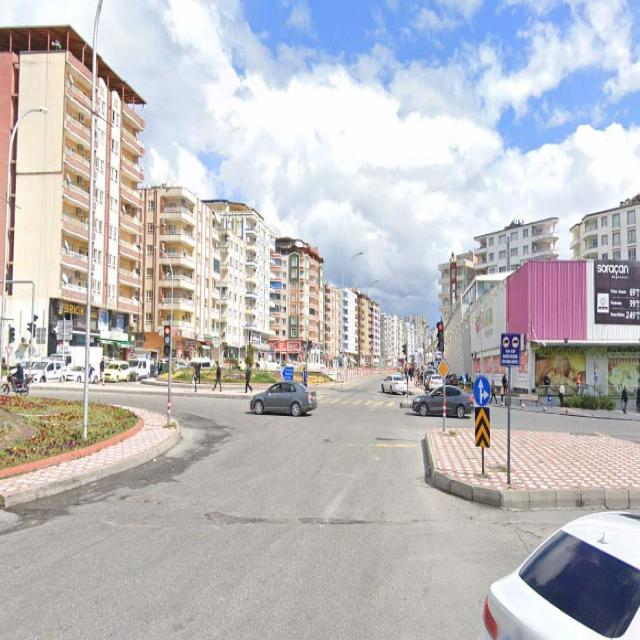ilerisag: (475, 375, 490, 407)
kirmizi: (163, 324, 171, 356)
